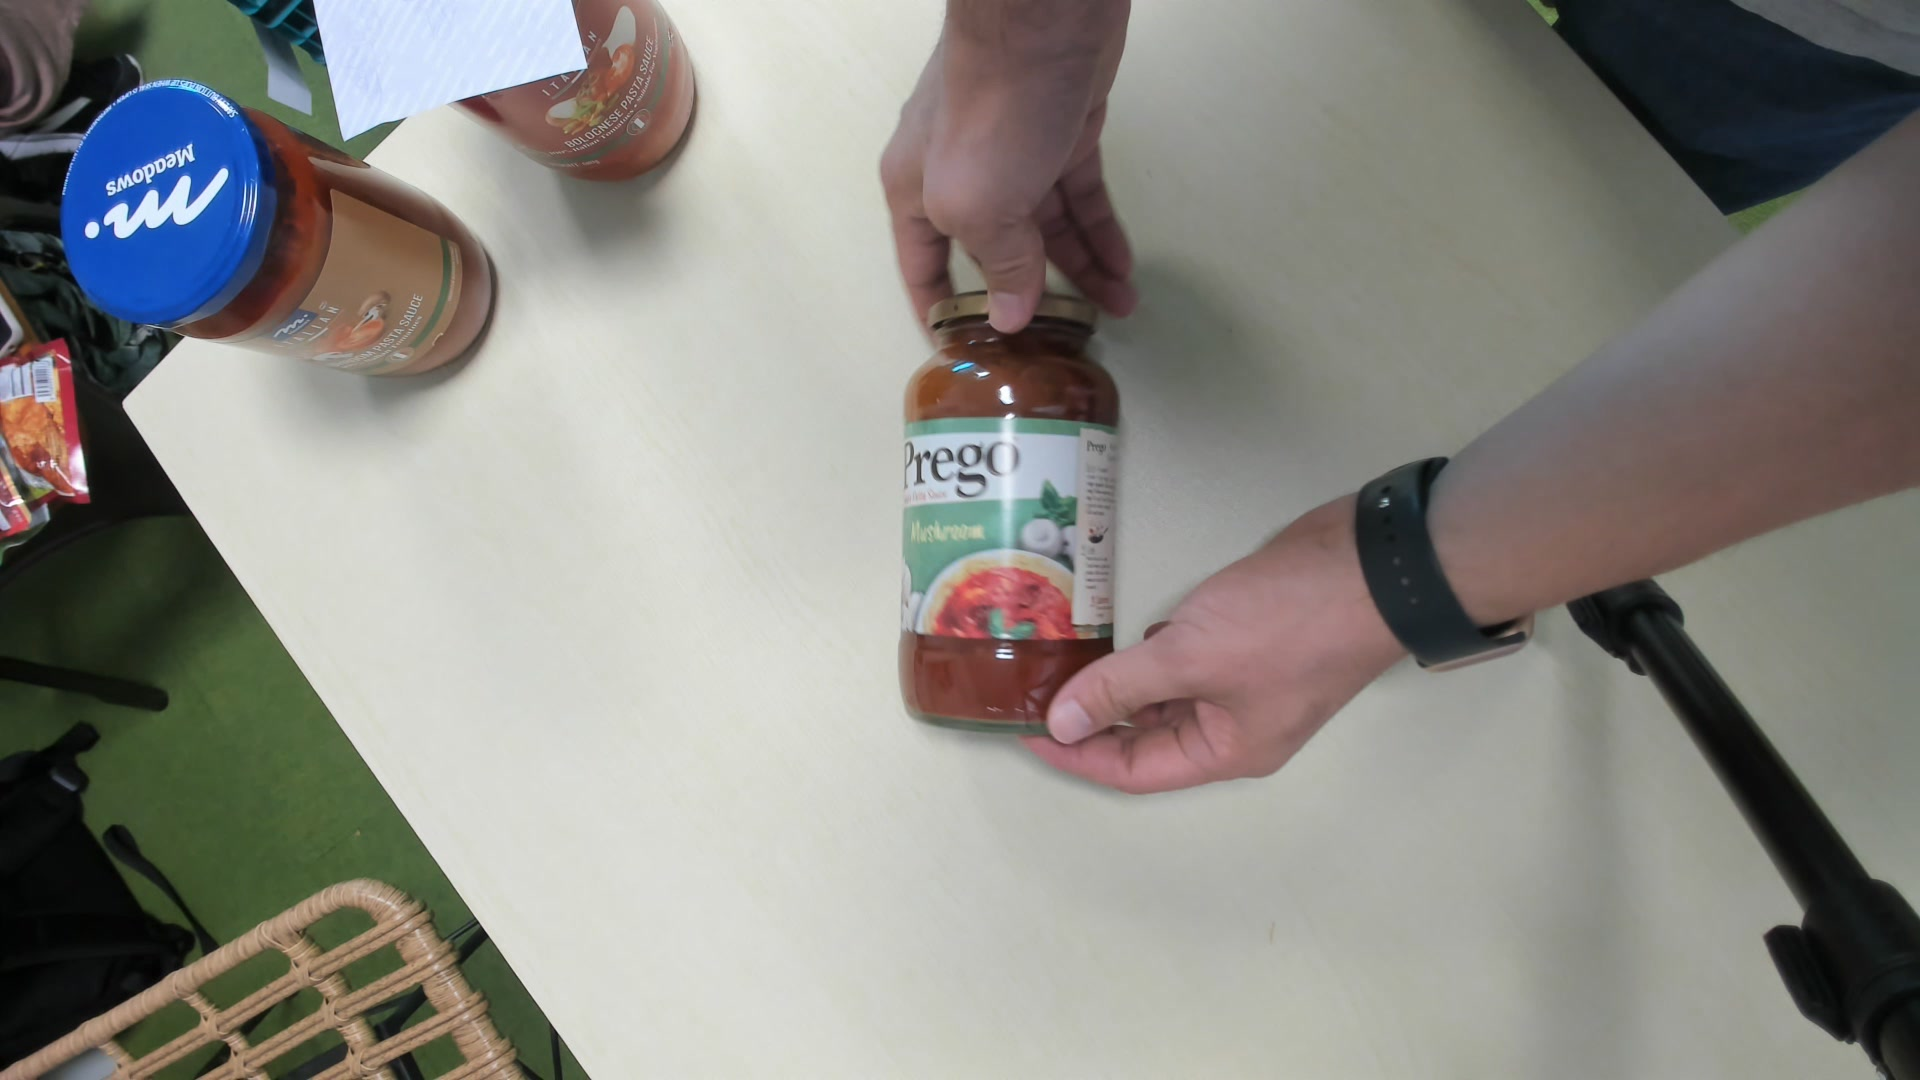PastaSauce_600-699g_Halal_NonHealthy: (894, 294, 1124, 724)
